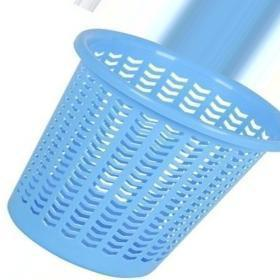Bote de Basura: (0, 25, 279, 278)
